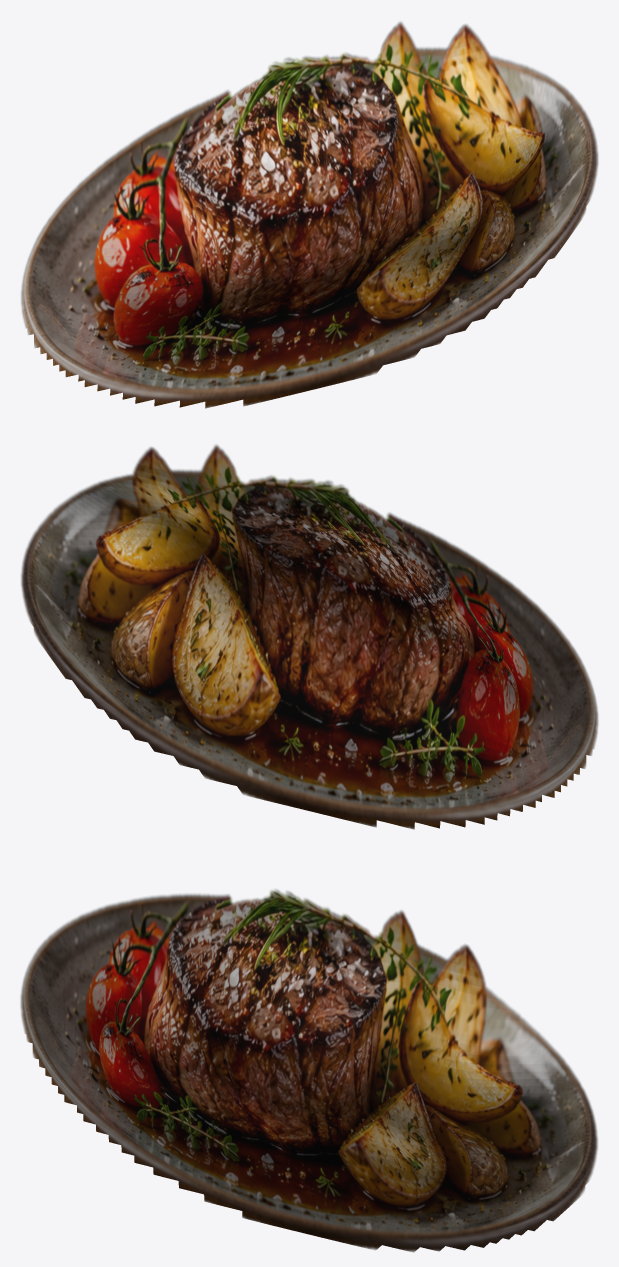
The model's file is filet-demo-optimized.glb.
3 views of the same model, one above another, from view 1: azimuth 30°, elevation 25°; view 2: azimuth 150°, elevation 25°; view 3: azimuth 330°, elevation 25° (orthographic).
Visible parts, largest first — view 1: world; view 2: world; view 3: world.
Boxes of the visible parts, x1,y1,x2,y2 form: world: (21, 22, 598, 408); world: (21, 445, 598, 829); world: (20, 889, 597, 1252).
Bounding box in the file's own units: 0.3328 × 0.1922 × 0.0312.
Materials: 1 (1 with a texture image).
